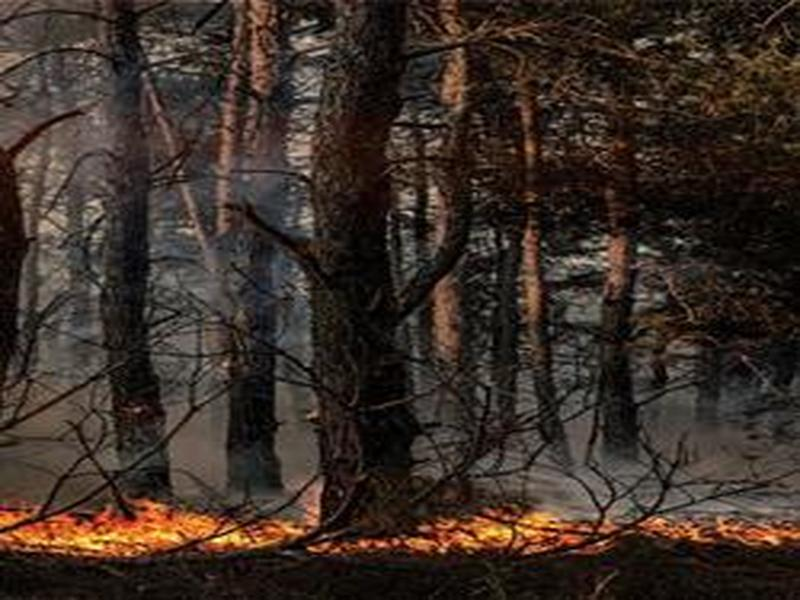FIRE: (7, 459, 710, 600)
